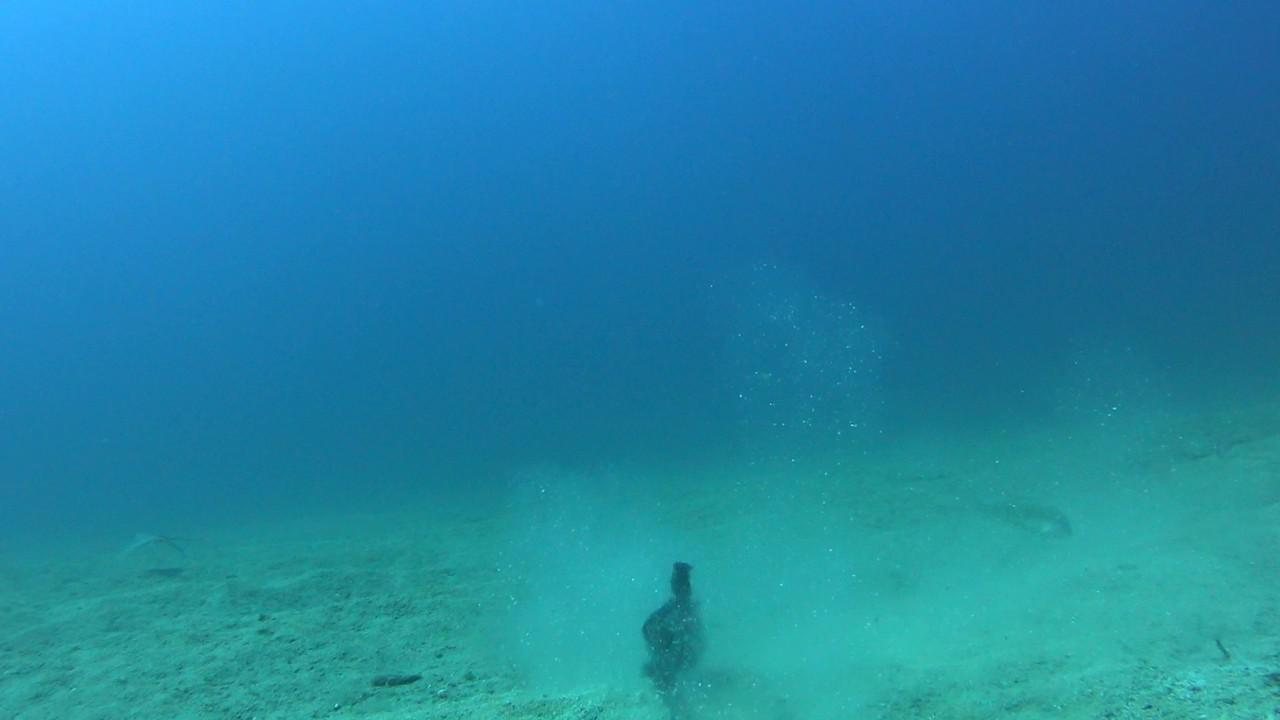myliobatis: (99, 505, 209, 567)
raor: (969, 498, 1082, 536)
